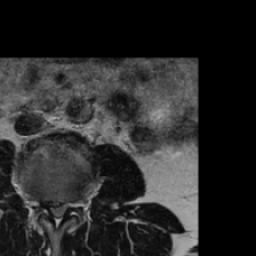CCS_normal: (55, 195, 61, 235)
LFS_severe_stenosis: (70, 194, 77, 214)
LLS_stenosis: (61, 195, 69, 218)
RFS_severe_stenosis: (39, 189, 48, 210)
RLS_severe_stenosis: (48, 195, 56, 220)
